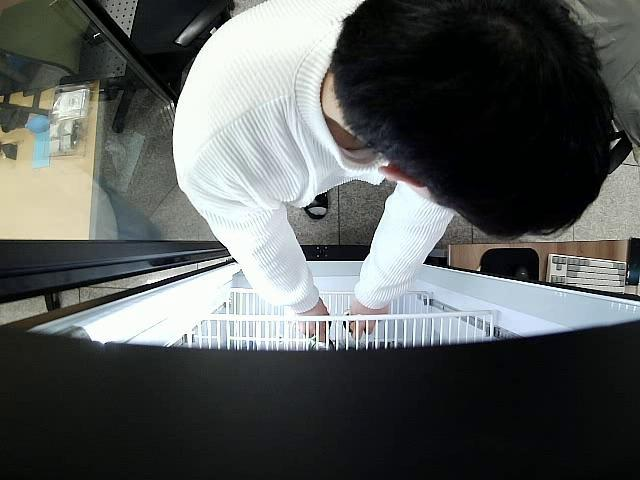17_vita500: (344, 312, 356, 332)
